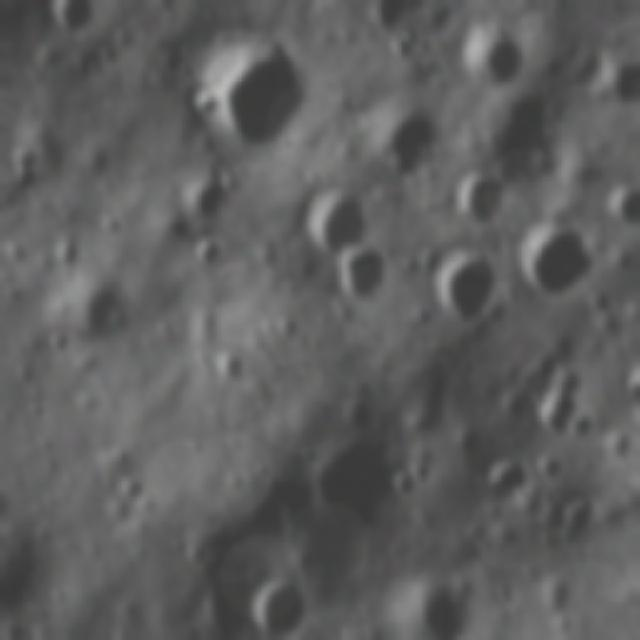crater: (198, 26, 318, 159), (302, 431, 404, 538), (288, 184, 386, 268), (422, 238, 508, 332), (515, 210, 597, 308), (358, 99, 450, 179), (403, 566, 489, 640), (457, 15, 534, 97), (327, 238, 404, 318), (66, 264, 136, 350), (192, 561, 266, 639), (527, 356, 584, 449), (253, 573, 318, 639), (450, 164, 512, 233), (597, 50, 640, 116), (182, 168, 229, 226), (43, 0, 103, 45), (482, 451, 529, 504), (600, 176, 640, 236), (101, 465, 150, 513), (8, 151, 54, 198), (538, 570, 573, 624), (165, 534, 213, 572), (193, 227, 229, 276), (530, 447, 573, 488), (388, 468, 422, 510), (211, 346, 244, 386), (272, 312, 302, 352), (566, 411, 602, 443), (412, 453, 442, 487), (604, 429, 633, 463), (47, 326, 78, 356)
